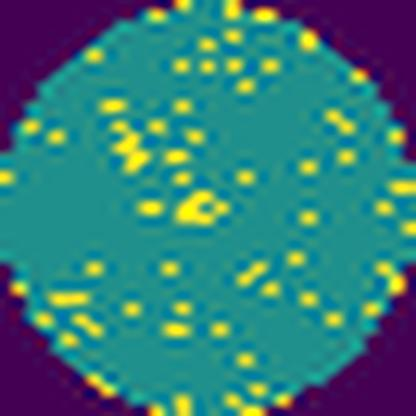Center: (169, 182, 230, 229)
